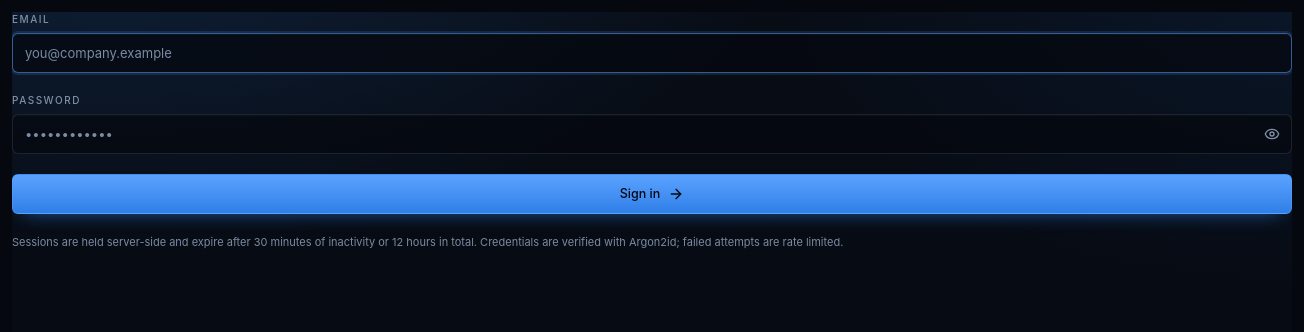
Test: LoginForm › shows the generic API message on invalid credentials
This screenshot has width=1304, height=332.
Type "amina@touche.example" into the field labelled "Email" at (652, 53), box [12,33,1292,73]
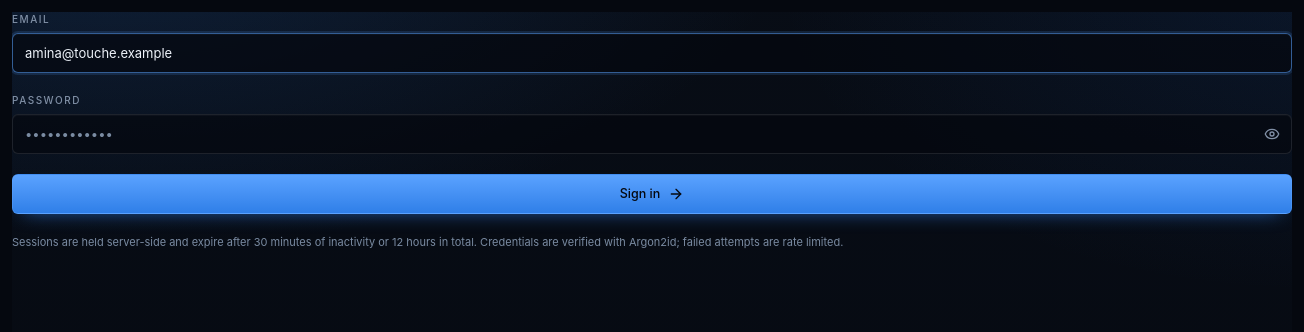
Type "wrong" into the password field labelled "Password" at (652, 134), box [12,114,1292,154]
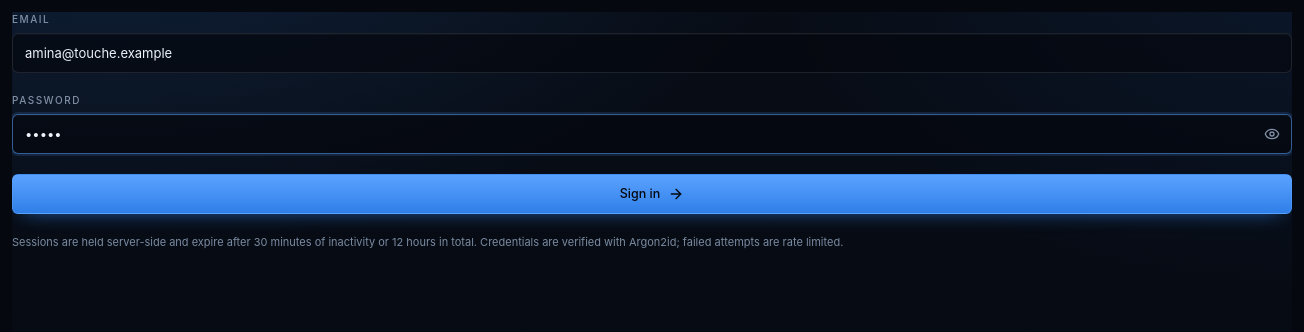
Click the button "Sign in" at (652, 194), box [12,174,1292,214]
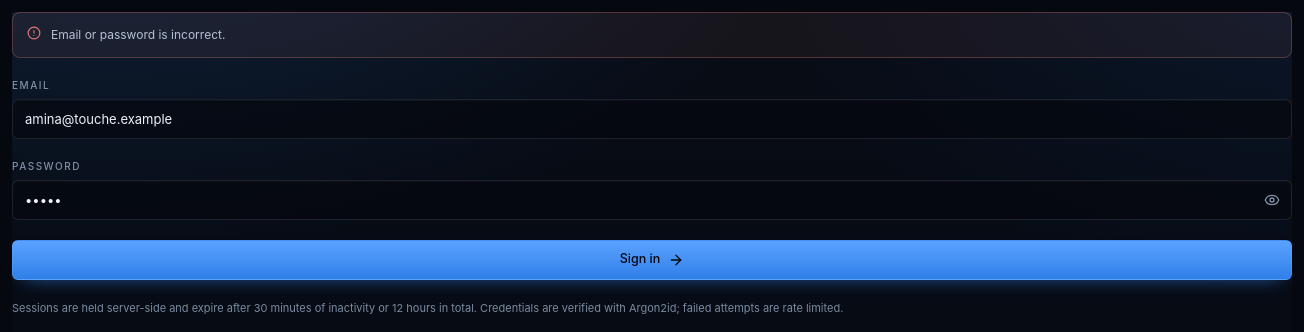
Result: the message reads "Email or password is incorrect." at [51,27,225,42]
